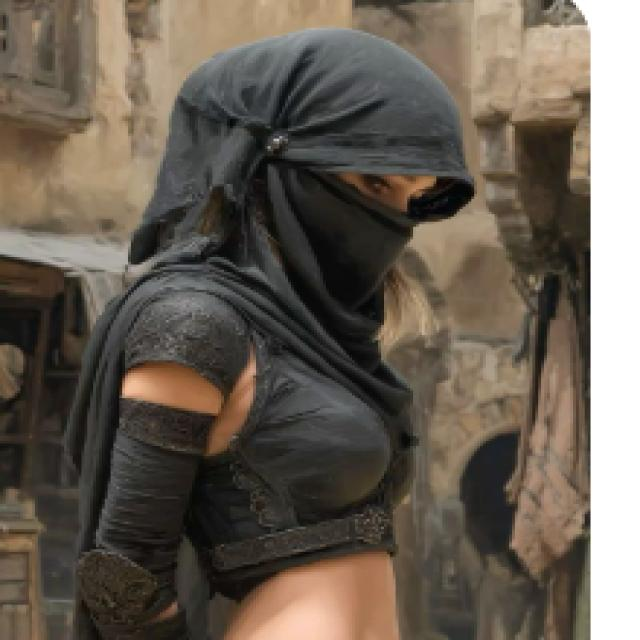4_capucha: (126, 30, 475, 222)
